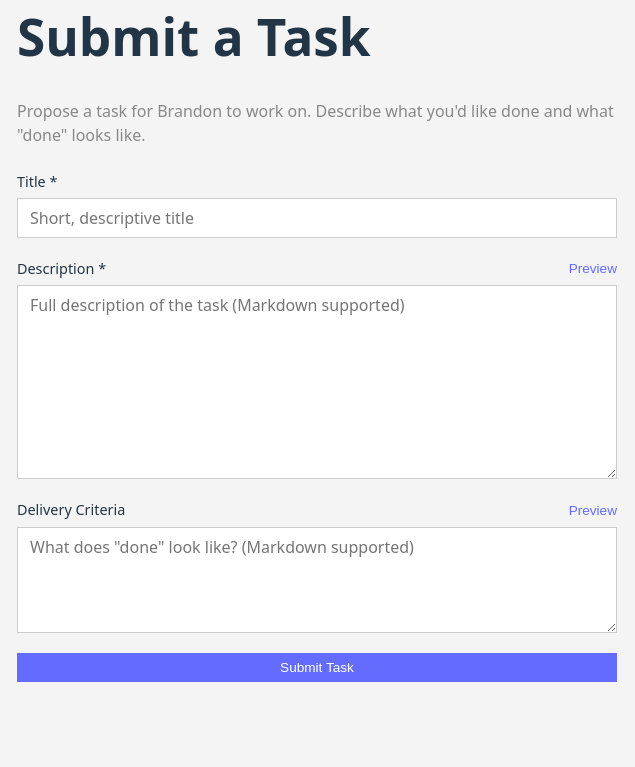
Test: SubmitTask (admin) › shows error on submission failure
This screenshot has width=635, height=767.
Type "Task" into the field labelled "Title *" at (317, 218), box 17,198 -> 617,238
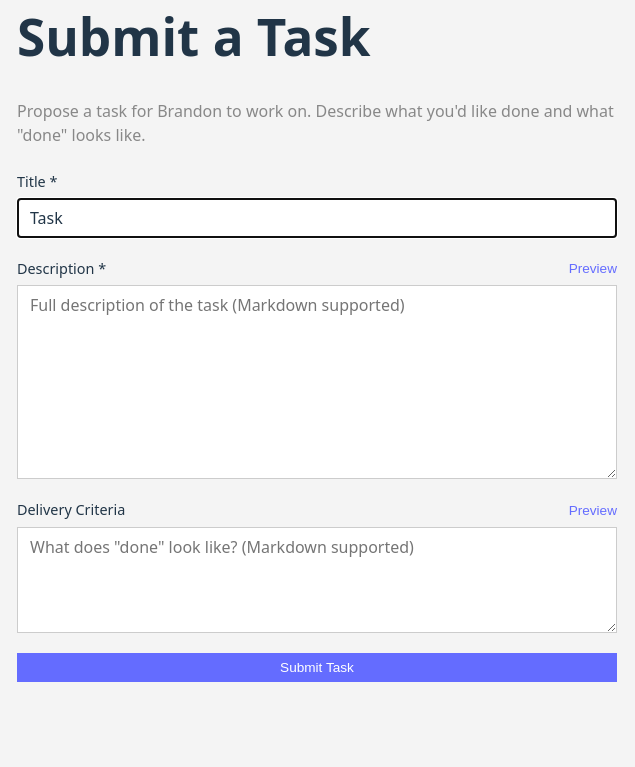
Type "Desc" into the text box labelled "Description *" at (317, 382), box 17,285 -> 617,479
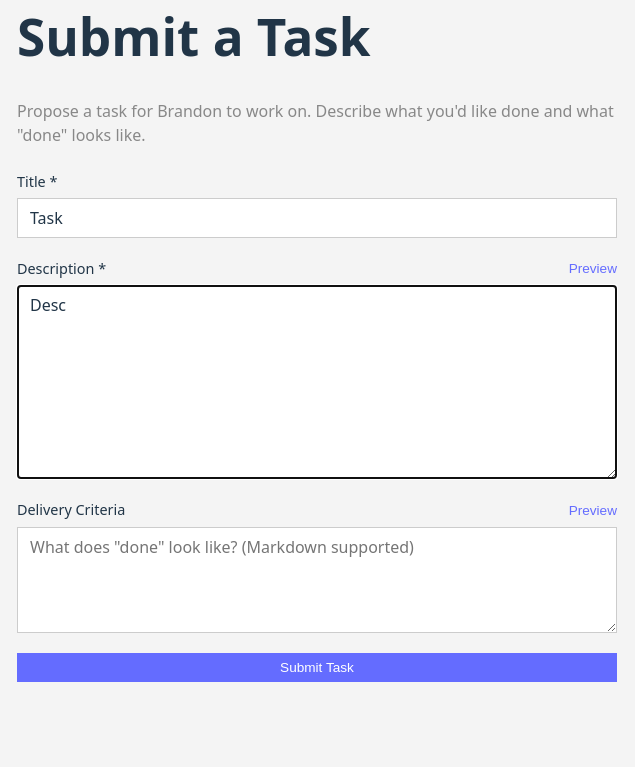
Click the button "Submit Task" at (317, 667), box 17,652 -> 617,682
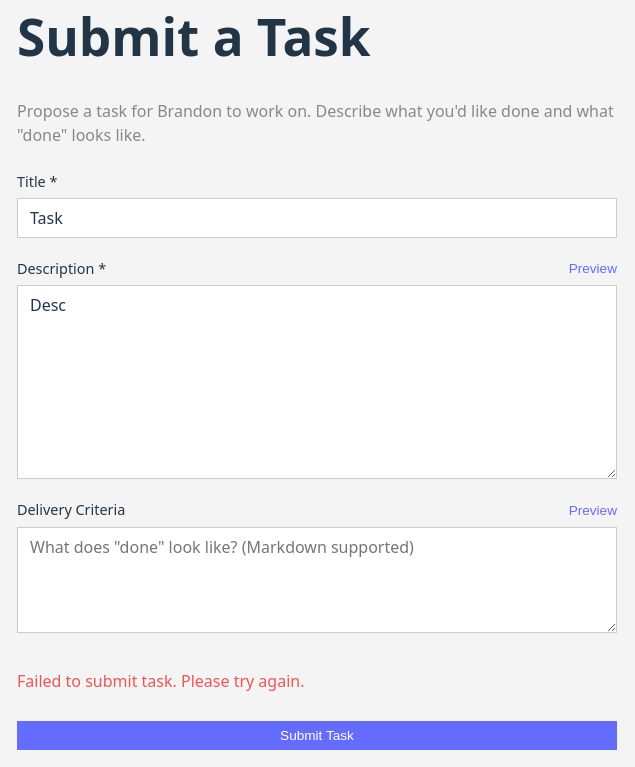
Expected: the text "Failed to submit task. Please try again." is shown, 17,670 -> 304,692
